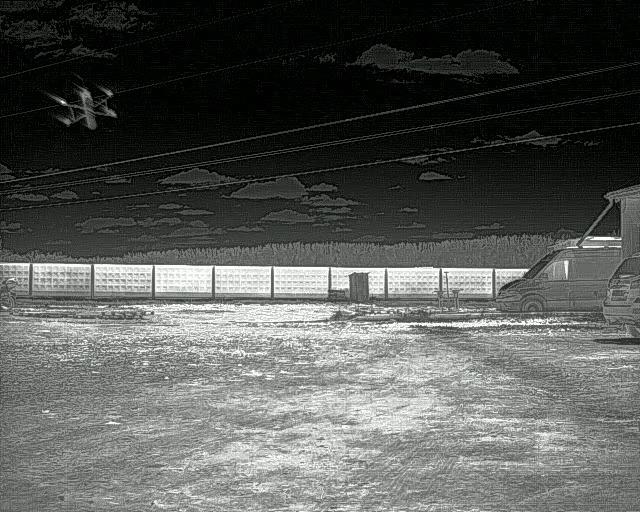drone-thermal: (46, 75, 124, 135)
